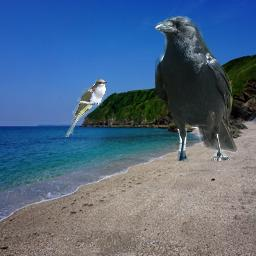Crow: (155, 16, 237, 161)
Cuckoo: (65, 79, 107, 137)
